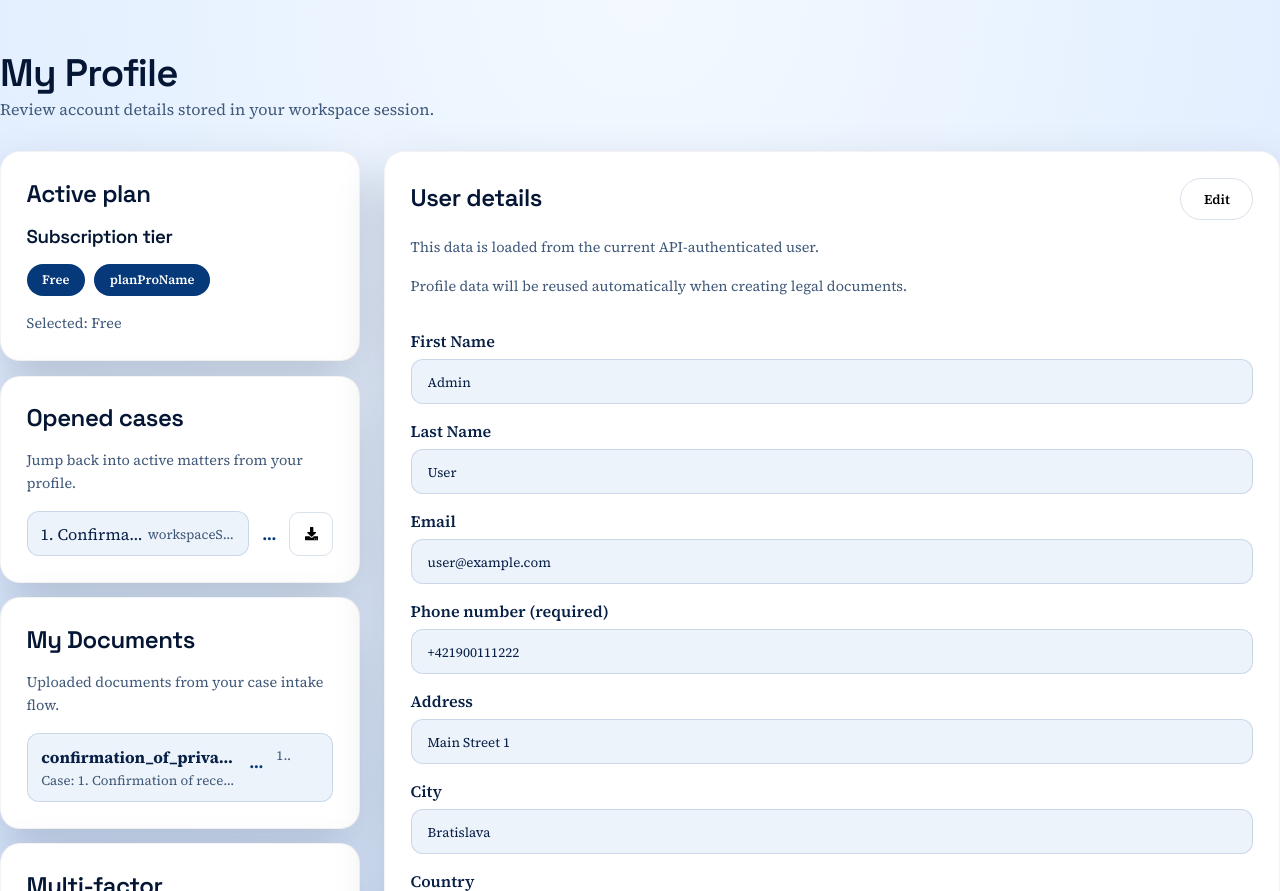
Test: Profile page › requires OTP before saving an email change
The width and height of the screenshot is (1280, 891).
Click the button "Edit": x=1217, y=199 [1180,178,1253,220]
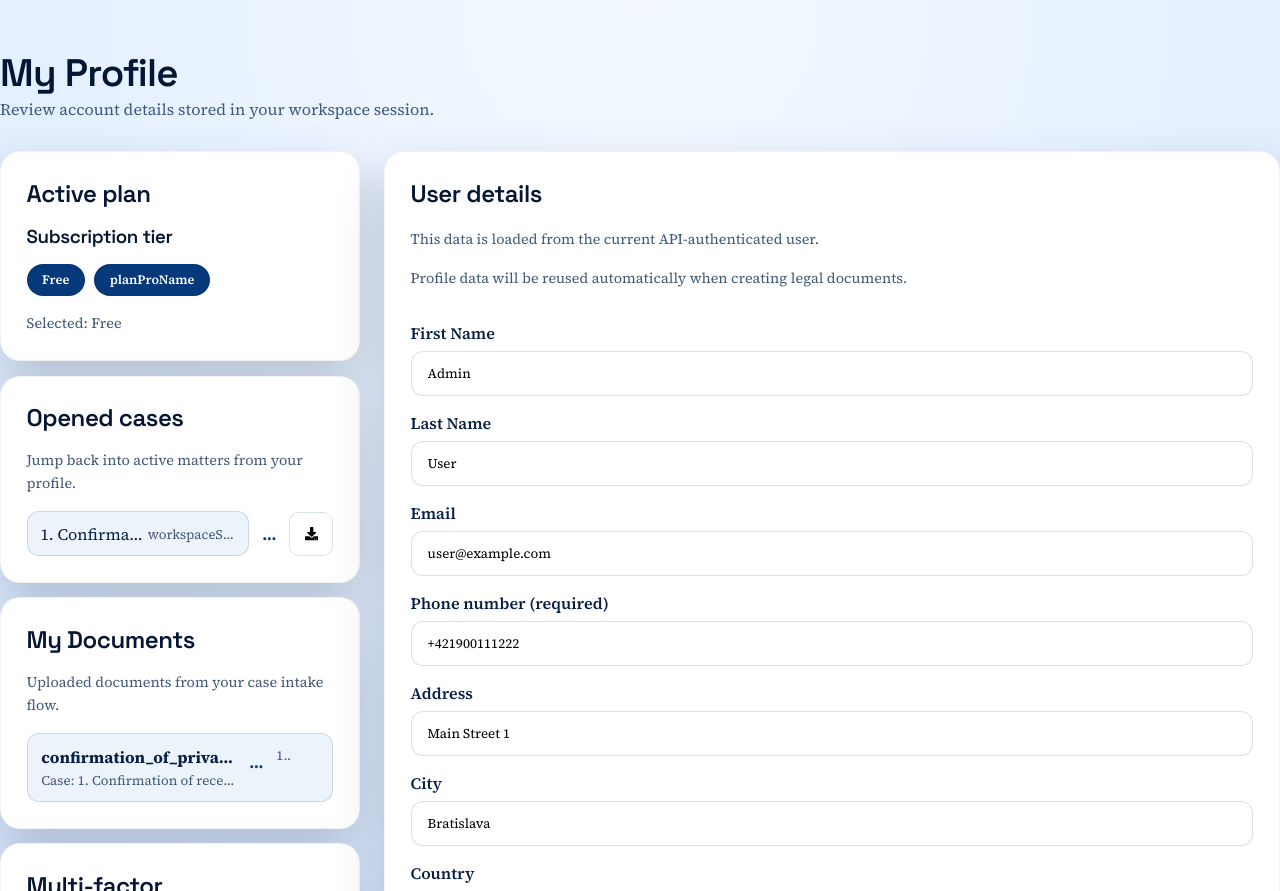
Replace the text in the field labelled "Email" with "new@example.com": x=832, y=553 [411,531,1253,576]
(page scrolled)
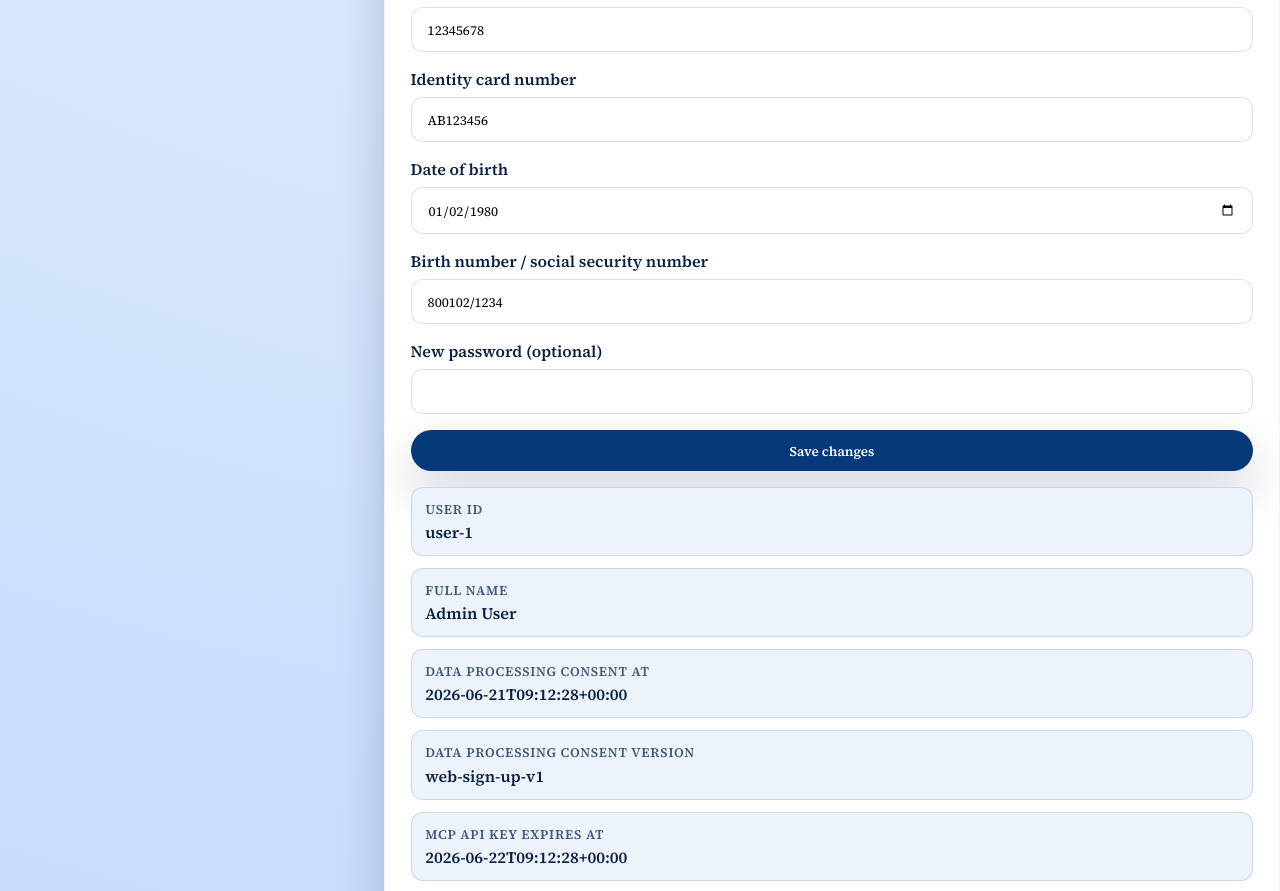
Click the button "Save changes": x=832, y=451 [411,430,1253,471]
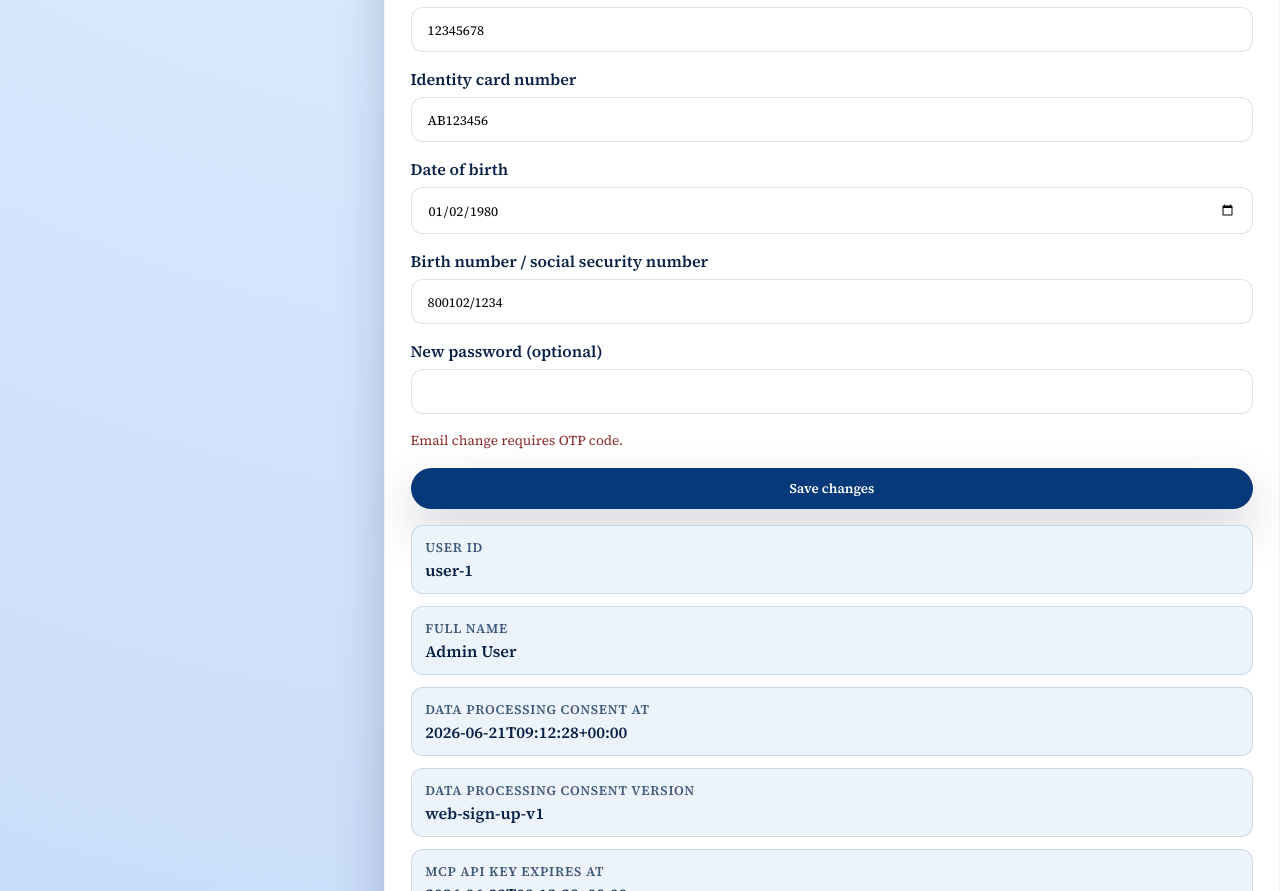
expect the message reads "Email change requires OTP code.": met, box [411,431,623,450]
